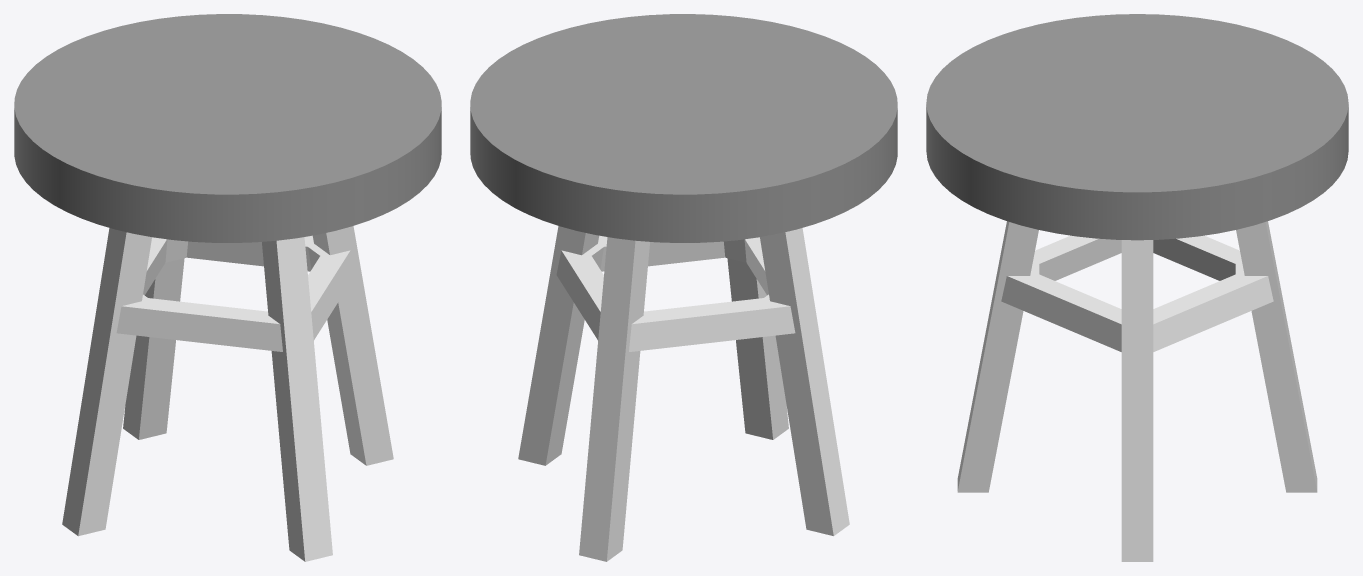
The model's file is chair1_modern.glb.
3 renders of one model, left to right at view 1: azimuth 30°, elevation 25°; view 2: azimuth 150°, elevation 25°; view 3: azimuth 270°, elevation 25°, orthographic.
Visible parts, largest first — view 1: Cylinder002; view 2: Cylinder002; view 3: Cylinder002.
Part boxes in pixels (x1,y1,x2,y2): Cylinder002: (14,14,441,561); Cylinder002: (470,14,897,561); Cylinder002: (926,14,1348,561).
Size of the model in its own units: 0.08 by 0.08 by 0.08.
1 material, 1 textured.
